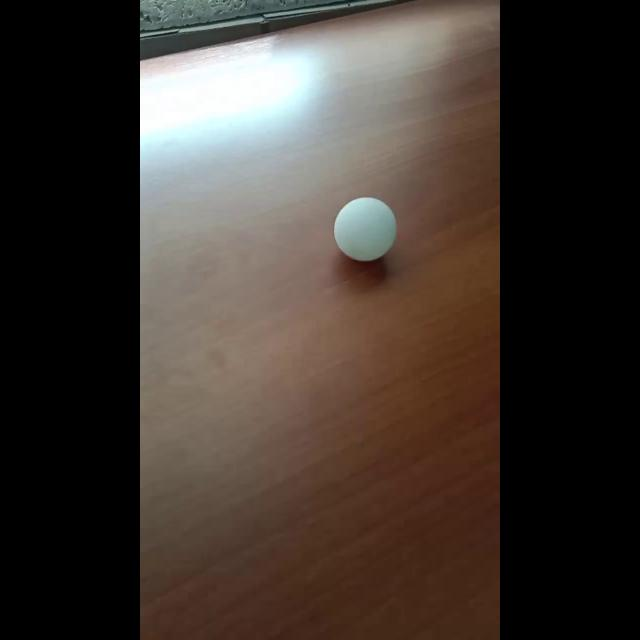white ball: (333, 196, 397, 262)
